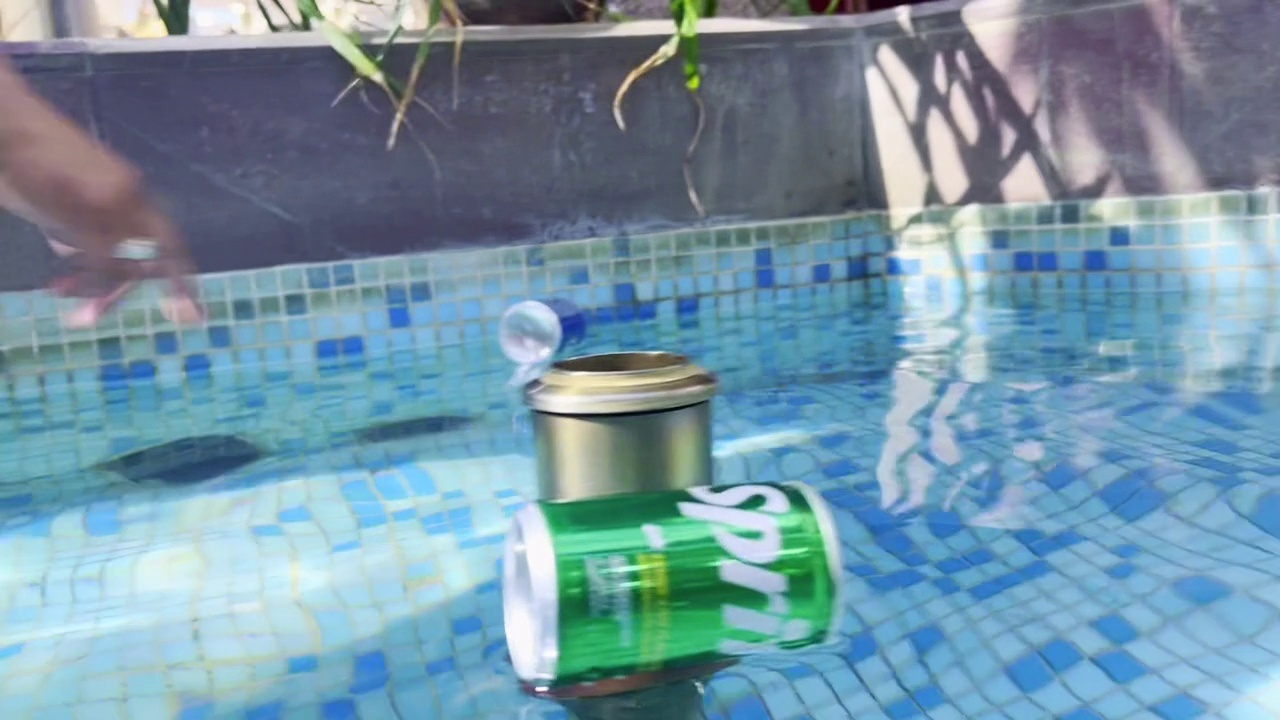debris: (489, 466, 848, 697), (478, 290, 594, 366)
